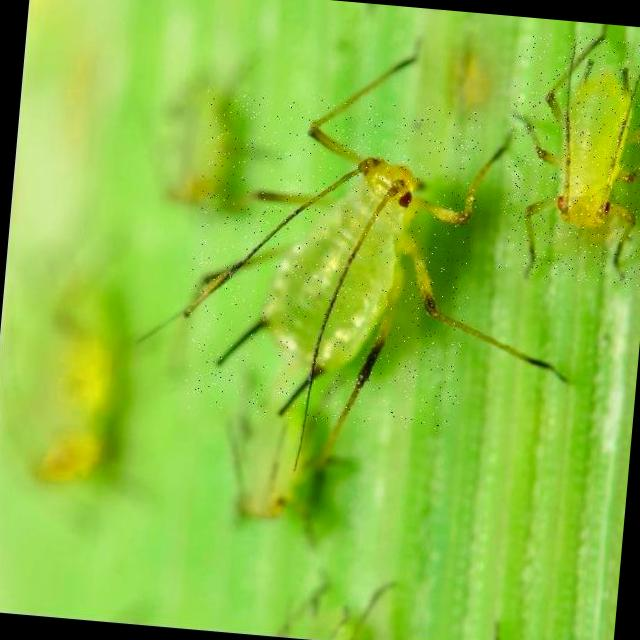aphid: (177, 89, 483, 433), (495, 32, 640, 287)
